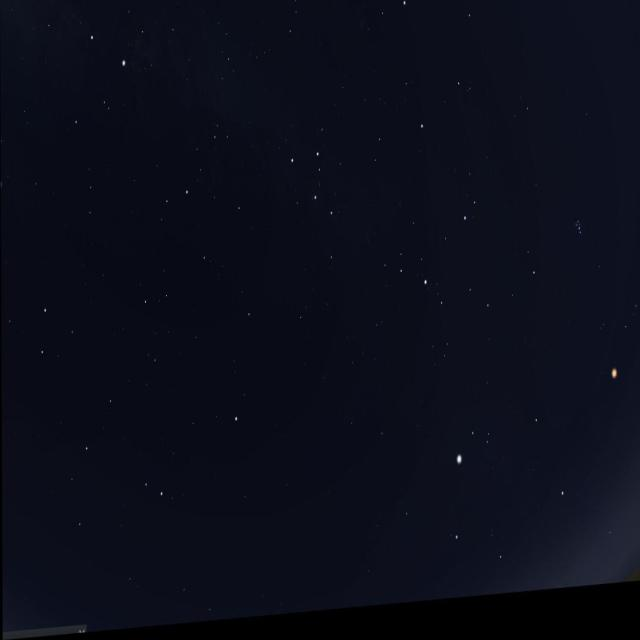cassiopeia: (284, 122, 350, 298)
pleiades: (568, 215, 590, 263)
